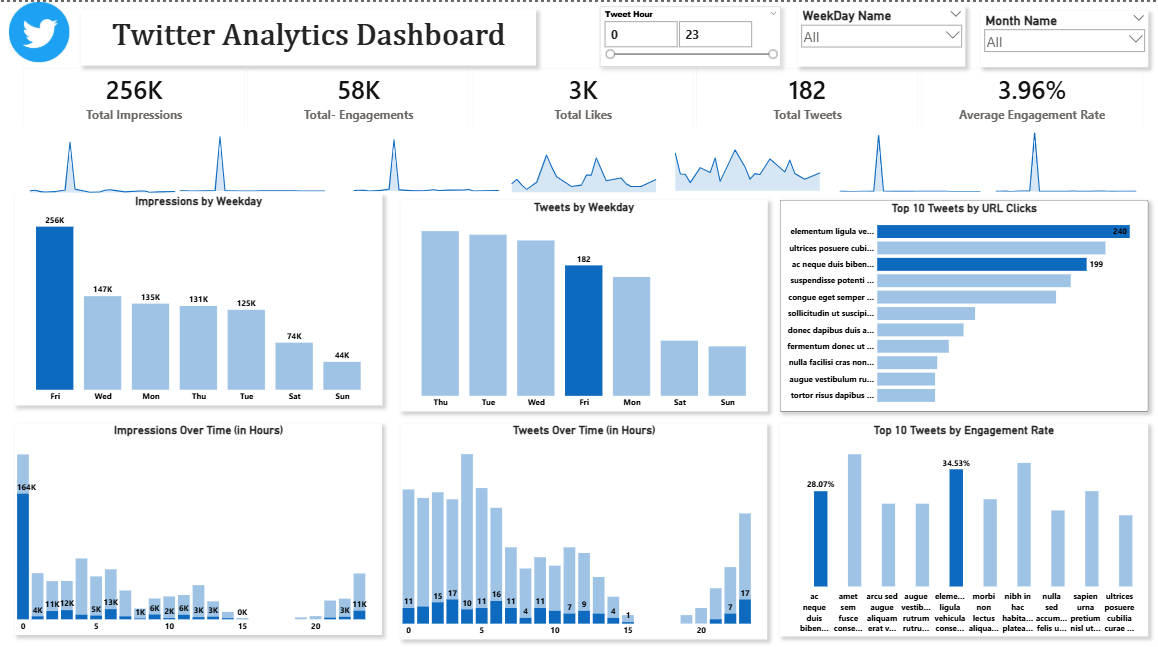

Layout of this report page (visuals, bound fields, positions):
{"tool":"powerbi","page":{"name":"Tweet_Analysis","canvas":[3300,1850],"ordinal":0},"visuals":[{"type":"areaChart","fields":{"Category":["Calender.Date.Variation.Date Hierarchy.Day"],"Y":["Sum(SocialMedia.impressions)"]},"box":[51.1,355.5,523.3,188.8],"z":0,"group":"g1"},{"type":"cardVisual","fields":{"Data":["Measure.Total Impressions","Measure.Total- Engagements","Measure.Total Likes","Count(SocialMedia.Tweet)","Measure.Average Engagement Rate","Measure.Total Media Engagement","Measure.Total Media Views"]},"box":[55.3,170.2,3213.5,280.9],"z":0},{"type":"areaChart","fields":{"Category":["Calender.Date.Variation.Date Hierarchy.Day"],"Y":["Measure.Total- Engagements"]},"box":[478.8,353.3,523.3,188.8],"z":1000,"group":"g1"},{"type":"columnChart","title":"Impressions by Weekday","fields":{"Category":["Calender.WeekDay Name"],"Y":["Sum(SocialMedia.impressions)"]},"box":[51.1,544.8,1042.8,600.1],"z":1000},{"type":"areaChart","fields":{"Y":["Sum(SocialMedia.likes)"],"Category":["SocialMedia.DateTime.Variation.Date Hierarchy.Day"]},"box":[971.1,353.3,523.3,188.8],"z":2000,"group":"g1"},{"type":"columnChart","title":"Tweets by Weekday","fields":{"Category":["Calender.WeekDay Name"],"Y":["CountNonNull(SocialMedia.Tweet)"]},"box":[1144.5,561.5,1041.8,600.2],"z":2000},{"type":"areaChart","fields":{"Category":["SocialMedia.DateTime.Variation.Date Hierarchy.Day"],"Y":["Count(SocialMedia.Tweet)"]},"box":[1415.7,403.2,523.3,141.1],"z":3000,"group":"g1"},{"type":"clusteredBarChart","title":"Top 10 Tweets by URL Clicks","fields":{"Category":["SocialMedia.Tweet"],"Y":["Sum(SocialMedia.url clicks)"]},"box":[2222,561.4,1044.5,600.1],"z":3000},{"type":"areaChart","fields":{"Category":["SocialMedia.DateTime.Variation.Date Hierarchy.Day"],"Y":["Avg(SocialMedia.engagement rate)"]},"box":[1880.2,403.9,524.2,136.7],"z":4000,"group":"g1"},{"type":"clusteredColumnChart","title":"Impressions Over Time (in Hours)","fields":{"Y":["Sum(SocialMedia.impressions)"],"Category":["SocialMedia.TweetHour"]},"box":[53.2,1196.5,1040.7,600.1],"z":4000},{"type":"clusteredColumnChart","title":"Top 10 Tweets by Engagement Rate","fields":{"Category":["SocialMedia.Tweet"],"Y":["Measure.Zero Axis","Sum(SocialMedia.engagement rate)"]},"box":[2222,1195.7,1044.5,603.9],"z":5000},{"type":"clusteredColumnChart","title":"Tweets Over Time (in Hours)","fields":{"Category":["SocialMedia.TweetHour"],"Y":["CountNonNull(SocialMedia.Tweet)"]},"box":[1142.9,1196.6,1041,612.3],"z":6000},{"type":"textbox","box":[239.3,22.8,1291.4,159.5],"z":7000},{"type":"areaChart","fields":{"Y":["Sum(SocialMedia.media engagements)"],"Category":["Calender.Date.Variation.Date Hierarchy.Day"]},"box":[2347.4,353.8,509,189.9],"z":8000,"group":"g1"},{"type":"image","box":[0,1.5,239.3,170.9],"z":8000},{"type":"areaChart","fields":{"Category":["Calender.Date.Variation.Date Hierarchy.Day"],"Y":["Measure.Total Media Views"]},"box":[2791.8,353.8,509,189.9],"z":9000,"group":"g1"},{"type":"slicer","fields":{"Values":["Calender.Month Name"]},"box":[2791.8,23.5,474.8,159.5],"z":9000},{"type":"slicer","fields":{"Values":["Calender.WeekDay Name"]},"box":[2271.4,12.1,474.8,170.9],"z":10000},{"type":"slicer","fields":{"Values":["SocialMedia.IST Hour Only"]},"box":[1709.3,12.1,512.8,170.9],"z":11000},{"type":"group","id":"g1","title":"Group 1","box":[51.1,353.3,3247.5,191.5],"z":12000}]}

Visuals, with their boxes in screenshot pixels (x1, y1, x2, y2), scaled from the page's 3300x1850 canvas onto the 1158x647 screenshot:
areaChart - Calender.Date.Variation.Date Hierarchy.Day x Sum(SocialMedia.impressions): 18,124,202,190
cardVisual - Measure.Total Impressions x Measure.Total- Engagements: 19,60,1147,158
areaChart - Calender.Date.Variation.Date Hierarchy.Day x Measure.Total- Engagements: 168,124,352,190
"Impressions by Weekday" columnChart: 18,191,384,400
areaChart - Sum(SocialMedia.likes) x SocialMedia.DateTime.Variation.Date Hierarchy.Day: 341,124,524,190
"Tweets by Weekday" columnChart: 402,196,767,406
areaChart - SocialMedia.DateTime.Variation.Date Hierarchy.Day x Count(SocialMedia.Tweet): 497,141,680,190
"Top 10 Tweets by URL Clicks" clusteredBarChart: 780,196,1146,406
areaChart - SocialMedia.DateTime.Variation.Date Hierarchy.Day x Avg(SocialMedia.engagement rate): 660,141,844,189
"Impressions Over Time (in Hours)" clusteredColumnChart: 19,418,384,628
"Top 10 Tweets by Engagement Rate" clusteredColumnChart: 780,418,1146,629
"Tweets Over Time (in Hours)" clusteredColumnChart: 401,418,766,633
textbox: 84,8,537,64
areaChart - Sum(SocialMedia.media engagements) x Calender.Date.Variation.Date Hierarchy.Day: 824,124,1002,190
image: 0,1,84,60
areaChart - Calender.Date.Variation.Date Hierarchy.Day x Measure.Total Media Views: 980,124,1157,190
slicer - Calender.Month Name: 980,8,1146,64
slicer - Calender.WeekDay Name: 797,4,964,64
slicer - SocialMedia.IST Hour Only: 600,4,780,64
"Group 1" group: 18,124,1157,191
